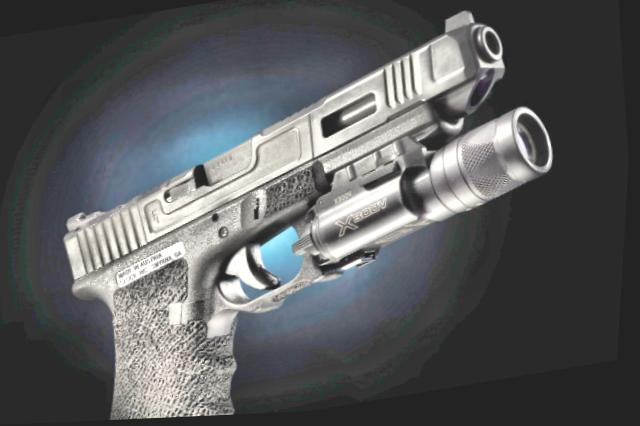pistol: (29, 0, 586, 424)
